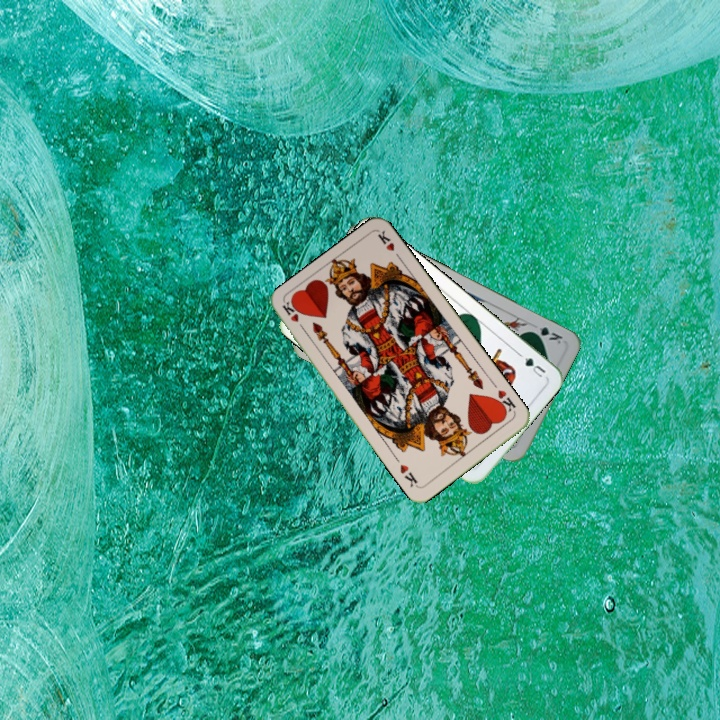GK: (526, 322, 565, 346)
GU: (520, 353, 548, 381)
HK: (279, 299, 309, 336), (490, 386, 518, 417)
